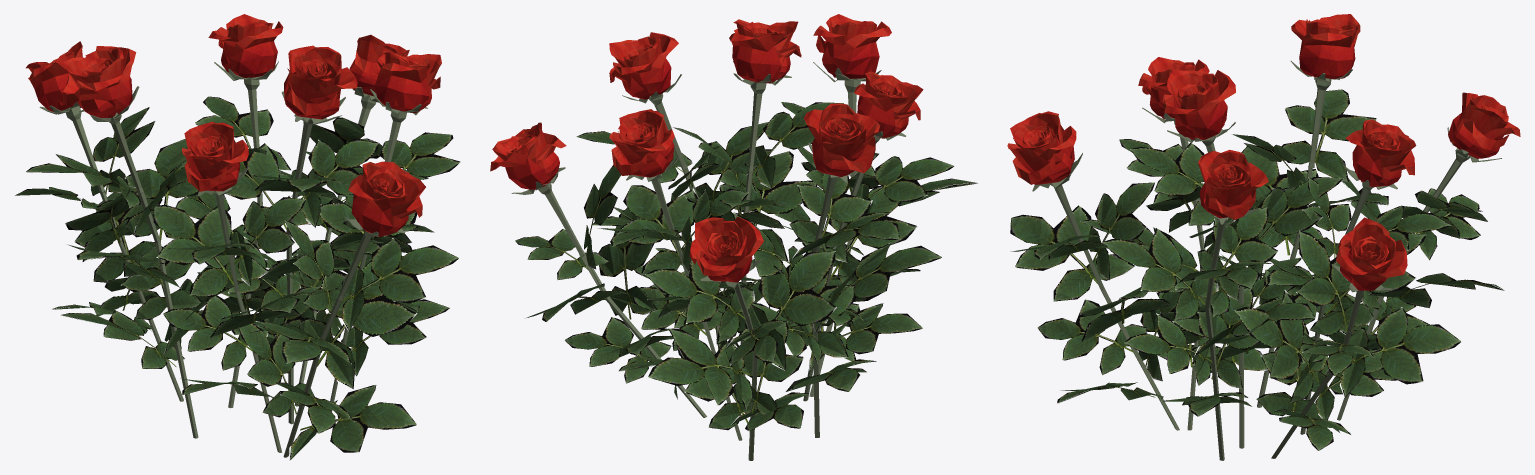
Rendered from sweethome3d-scopia-roses-bush.glb.
3 views of the same model, side by side, from view 1: azimuth 30°, elevation 25°; view 2: azimuth 150°, elevation 25°; view 3: azimuth 270°, elevation 25° (orthographic). The views are drawn at different scales.
Visible parts, largest first — view 1: Leaves.018, Leaves.036, rose.005, rose.001, Leaves.038, rose, rose.002, Leaves.035, rose.004, rose.003, Leaves.006, Leaves.020 (+42 smaller); view 2: Leaves.046, rose.001, Leaves.045, rose.006, rose.003, rose, rose.005, Leaves.043, rose.004, Leaves.025, rose.007, rose.002 (+40 smaller); view 3: Leaves.053, Leaves.039, rose, rose.005, Leaves.032, rose.007, rose.004, Leaves.052, Leaves.008, rose.001, rose.003, Leaves.050 (+43 smaller).
Boxes of the visible parts, left/top/right/bottom form: Leaves.018: left=153, top=205, right=268, bottom=296; Leaves.036: left=341, top=238, right=458, bottom=331; rose.005: left=348, top=161, right=425, bottom=236; rose.001: left=60, top=46, right=136, bottom=118; Leaves.038: left=299, top=256, right=417, bottom=389; rose: left=284, top=45, right=357, bottom=119; rose.002: left=182, top=121, right=248, bottom=191; Leaves.035: left=289, top=384, right=416, bottom=460; rose.004: left=374, top=50, right=441, bottom=112; rose.003: left=208, top=14, right=283, bottom=77; Leaves.006: left=290, top=138, right=378, bottom=227; Leaves.020: left=230, top=197, right=305, bottom=285; Leaves.046: left=745, top=251, right=836, bottom=370; rose.001: left=804, top=103, right=879, bottom=176; Leaves.045: left=648, top=327, right=753, bottom=410; rose.006: left=689, top=216, right=763, bottom=282; rose.003: left=609, top=109, right=674, bottom=177; rose: left=729, top=19, right=801, bottom=83; rose.005: left=813, top=14, right=891, bottom=78; Leaves.043: left=645, top=260, right=754, bottom=343; rose.004: left=609, top=32, right=678, bottom=99; Leaves.025: left=616, top=185, right=697, bottom=276; rose.007: left=490, top=122, right=566, bottom=189; rose.002: left=854, top=71, right=923, bottom=138; Leaves.053: left=1340, top=307, right=1461, bottom=397; Leaves.039: left=1010, top=204, right=1134, bottom=301; rose: left=1162, top=70, right=1235, bottom=139; rose.005: left=1007, top=111, right=1076, bottom=184; Leaves.032: left=1102, top=227, right=1218, bottom=320; rose.007: left=1336, top=217, right=1407, bottom=290; rose.004: left=1198, top=149, right=1268, bottom=219; Leaves.052: left=1234, top=290, right=1328, bottom=403; Leaves.008: left=1281, top=89, right=1377, bottom=181; rose.001: left=1291, top=14, right=1360, bottom=78; rose.003: left=1346, top=119, right=1416, bottom=187; Leaves.050: left=1296, top=230, right=1373, bottom=336.
Size of the model in its own units: 39.57 by 36.12 by 45.31.
Materials: 3 (2 with a texture image).
